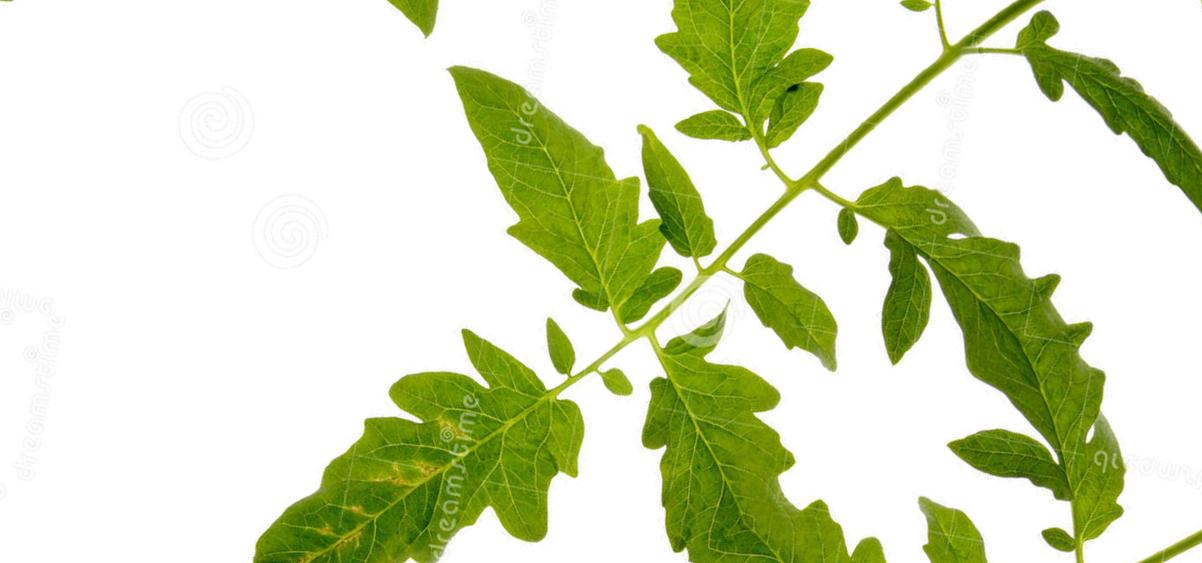Tomato leaf: (150, 279, 656, 563), (404, 0, 727, 369), (519, 268, 855, 563), (781, 99, 1085, 411), (550, 0, 902, 219)
